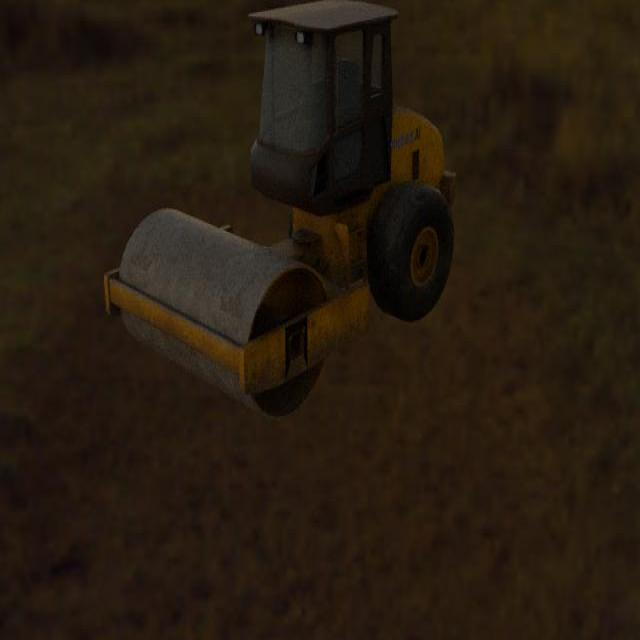Roller: (103, 0, 456, 421)
